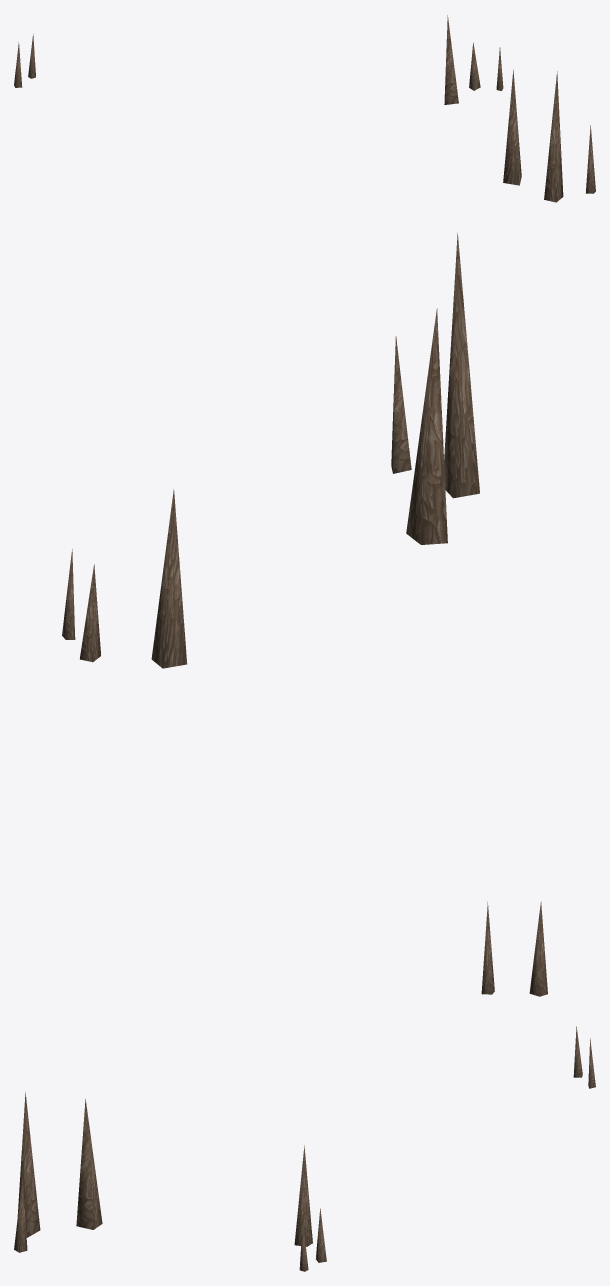
The model's file is area_04_7.FBX.
The picture shows the model from 3 angles, top to bottom: view 1: azimuth 30°, elevation 25°; view 2: azimuth 150°, elevation 25°; view 3: azimuth 270°, elevation 25°; orthographic projection. The views are drawn at different scales.
Visible parts, largest first — view 1: area_04_7; view 2: area_04_7; view 3: area_04_7.
Boxes of the visible parts, x1,y1,x2,y2 form: area_04_7: (14,15,595,202); area_04_7: (62,233,547,996); area_04_7: (14,1026,595,1271).
Bounding box in the file's own units: 53.16 × 17.92 × 66.05.
